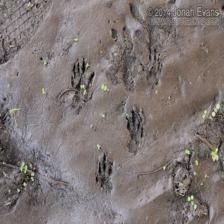squirrel: (121, 108, 147, 156), (91, 155, 116, 196)
